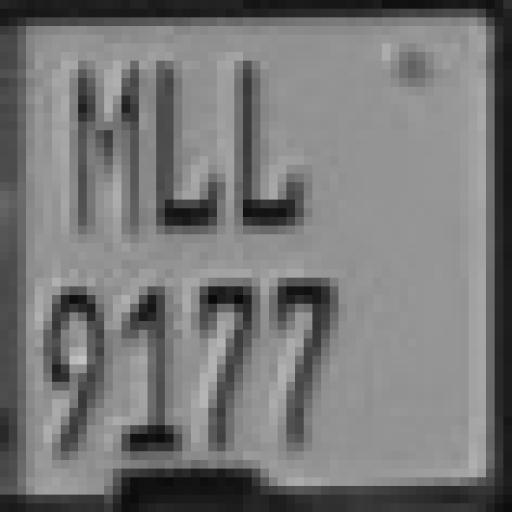1: (120, 286, 191, 457)
7: (267, 278, 351, 450), (192, 281, 269, 454)
9: (38, 293, 110, 446)
L: (236, 54, 318, 236), (150, 56, 226, 241)
M: (64, 56, 140, 238)
